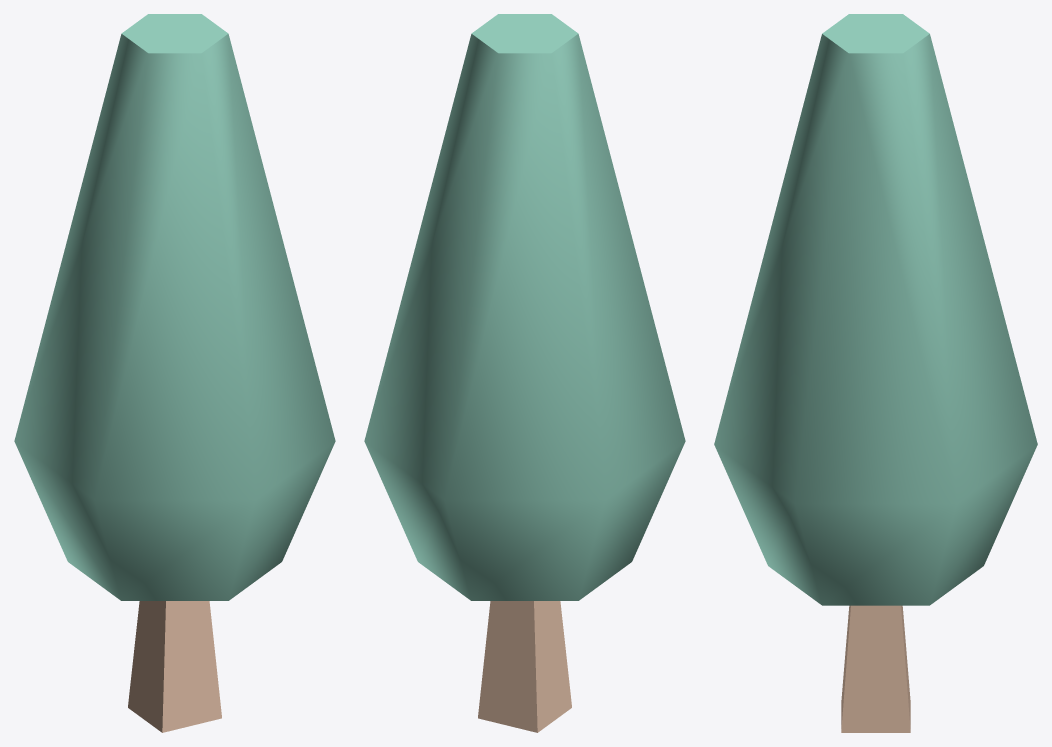
Rendered from treeSmall.gltf.
3 renders of one model, left to right at view 1: azimuth 30°, elevation 25°; view 2: azimuth 150°, elevation 25°; view 3: azimuth 270°, elevation 25°, orthographic.
Visible parts, largest first — view 1: tree_small; view 2: tree_small; view 3: tree_small.
Part boxes in pixels (<box>): tree_small: <box>14,14,335,732</box>; tree_small: <box>364,14,685,732</box>; tree_small: <box>714,14,1037,732</box>.
Bounding box in the file's own units: 0.2104 × 0.567 × 0.243.
